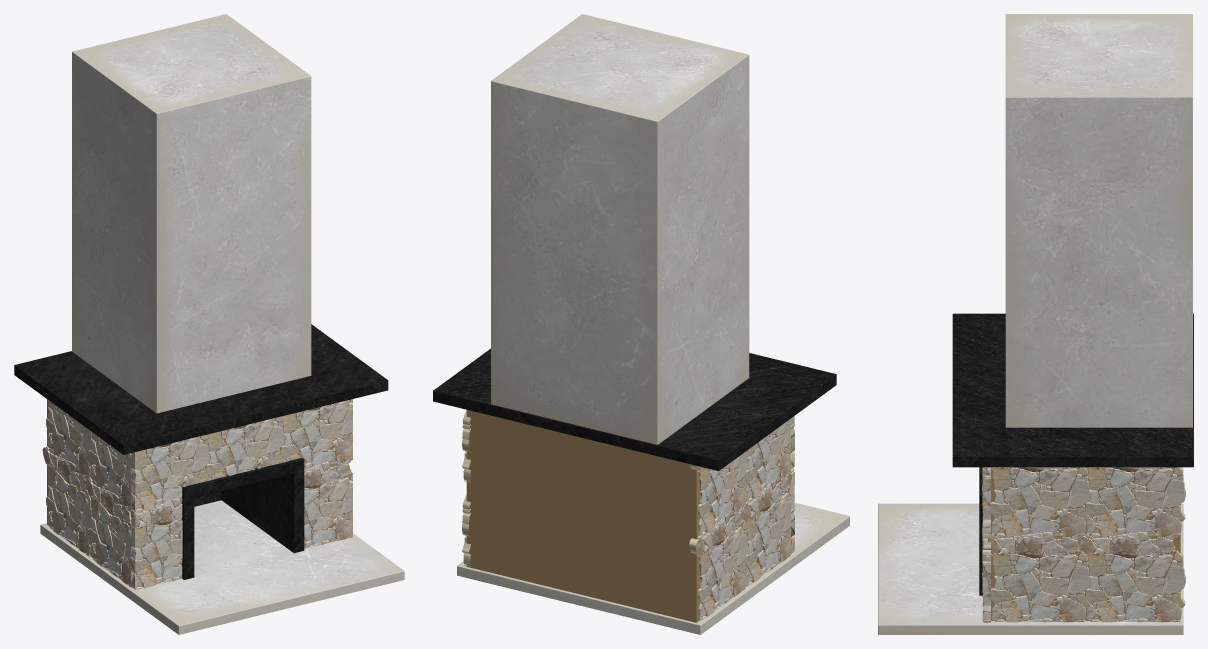
Rendered from charlote-transformed.glb.
3 views of the same model, side by side, from view 1: azimuth 30°, elevation 25°; view 2: azimuth 150°, elevation 25°; view 3: azimuth 270°, elevation 25° (orthographic). The views are drawn at different scales.
Visible parts, largest first — view 1: Cube.004, Plane.008; view 2: Cube.004, Cube.001, Plane.008; view 3: Cube.004, Plane.008, Cube.001.
Boxes of the visible parts, bbox=[...] form: Cube.004: bbox=[14, 14, 404, 634]; Plane.008: bbox=[42, 399, 352, 589]; Cube.004: bbox=[433, 14, 849, 634]; Cube.001: bbox=[466, 410, 790, 622]; Plane.008: bbox=[462, 411, 794, 620]; Cube.004: bbox=[878, 14, 1193, 634]; Plane.008: bbox=[982, 467, 1185, 622]; Cube.001: bbox=[988, 467, 1180, 620].
Bounding box in the file's own units: 2.49 × 4.21 × 2.33.
Materials: 3 (2 with a texture image).
